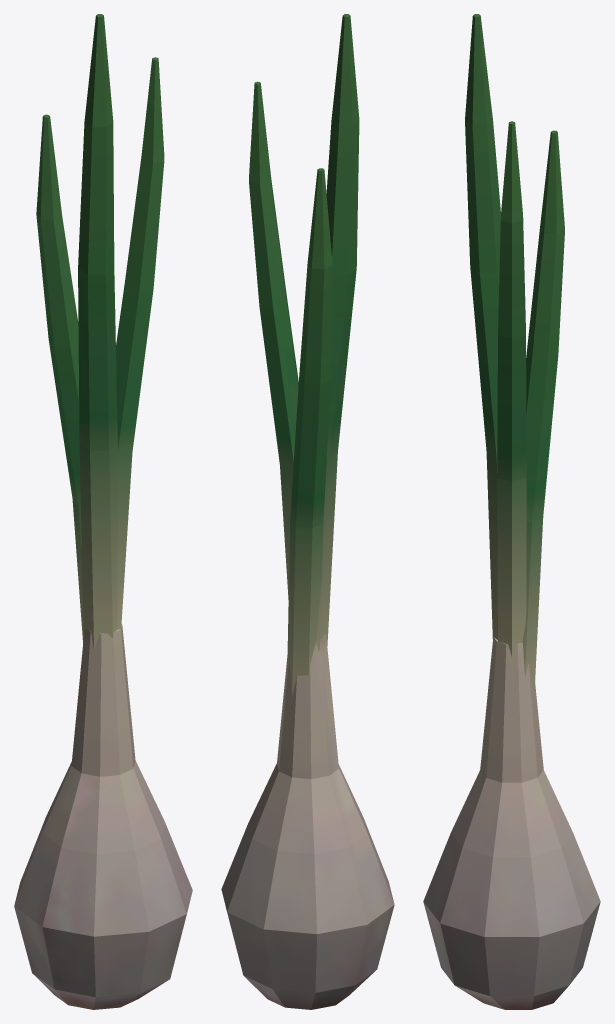
The model's file is Garlic_01.obj.
3 views of the same model, side by side, from view 1: azimuth 30°, elevation 25°; view 2: azimuth 150°, elevation 25°; view 3: azimuth 270°, elevation 25° (orthographic). The views are drawn at different scales.
Bounding box in the file's own units: 0.0867 × 0.5485 × 0.0912.
Materials: 1 (1 with a texture image).
